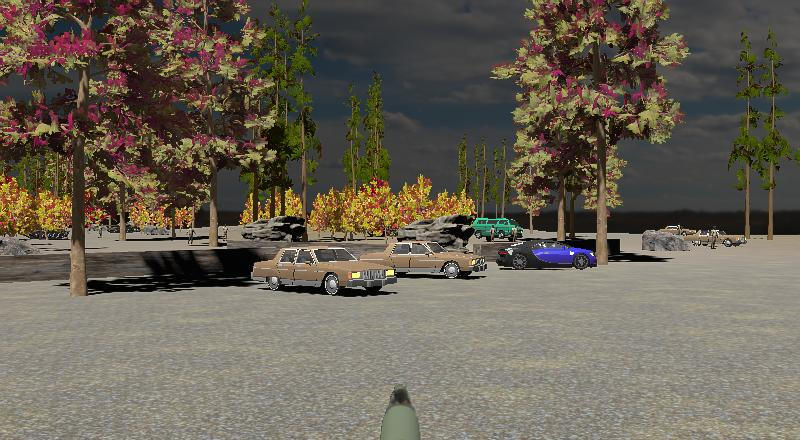car: (249, 245, 398, 295), (389, 241, 487, 279), (496, 237, 598, 271), (471, 217, 524, 241), (702, 226, 746, 248), (656, 223, 696, 239)
